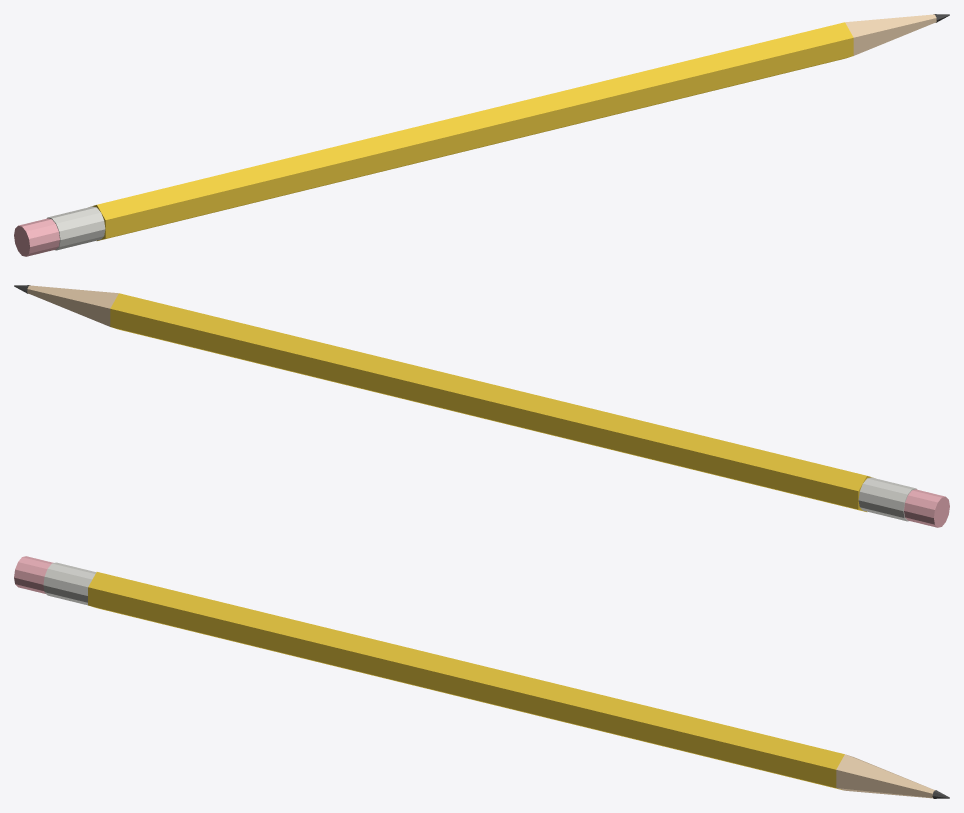
File: pencil.glb
3 views of the same model, one above another, from view 1: azimuth 30°, elevation 25°; view 2: azimuth 150°, elevation 25°; view 3: azimuth 330°, elevation 25° (orthographic).
Parts seen in each view (by area): view 1: body, tip, ferrule, eraser; view 2: body, tip, ferrule, eraser; view 3: body, tip, ferrule, eraser.
Boxes of the visible parts, x1,y1,x2,y2 form: body: (90,22,853,240); tip: (845,14,936,55); ferrule: (47,206,105,250); eraser: (14,218,59,256); body: (110,293,873,511); tip: (27,285,118,326); ferrule: (858,477,916,521); eraser: (904,489,949,527); body: (88,572,844,790); tip: (836,754,934,798); ferrule: (43,562,96,605); eraser: (14,556,53,593).
Size of the model in its own units: 0.186 by 0.007 by 0.00606.
